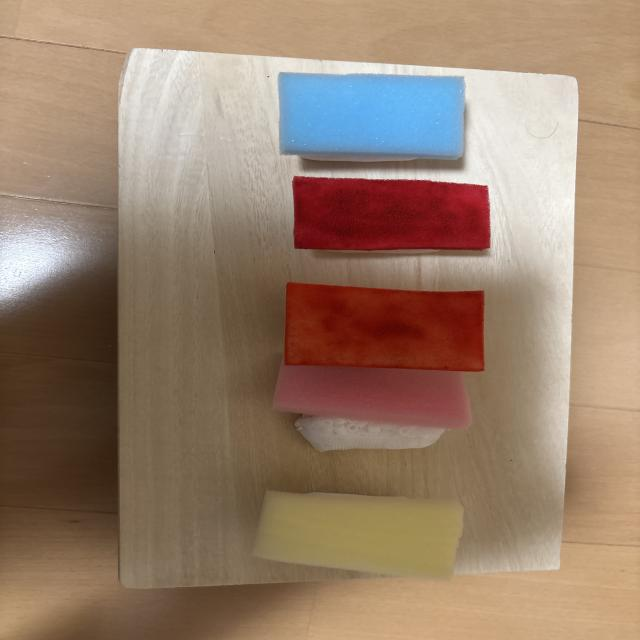NG: (273, 358, 472, 451)
ika: (278, 72, 465, 160)
maguro: (293, 176, 490, 252)
salmon: (285, 282, 484, 371)
tamago: (253, 491, 463, 579)
